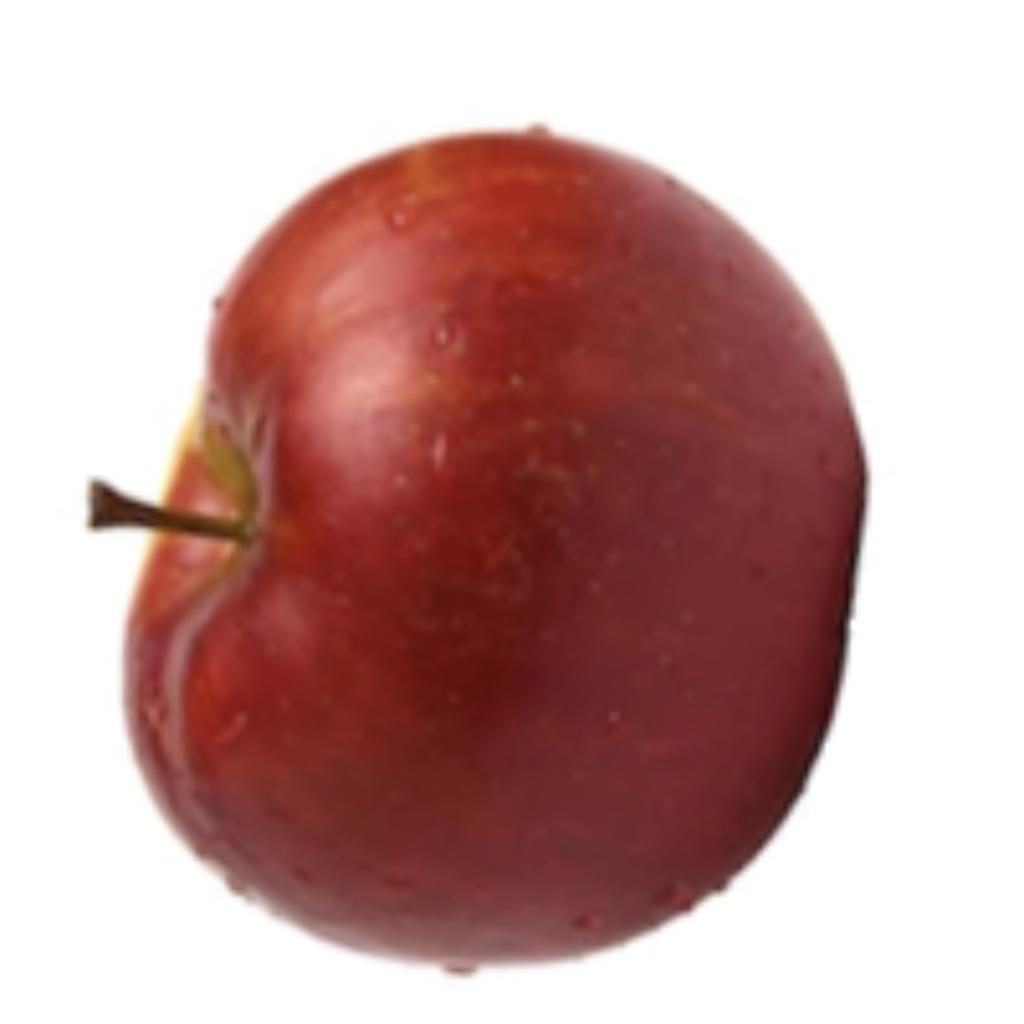apple: (77, 113, 876, 978)
